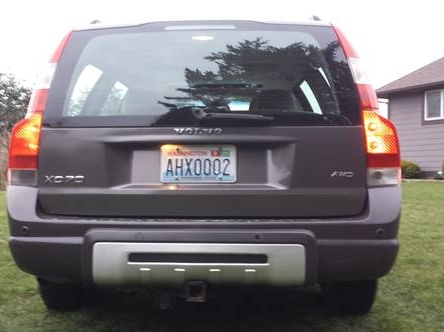volvo: (2, 14, 419, 324)
